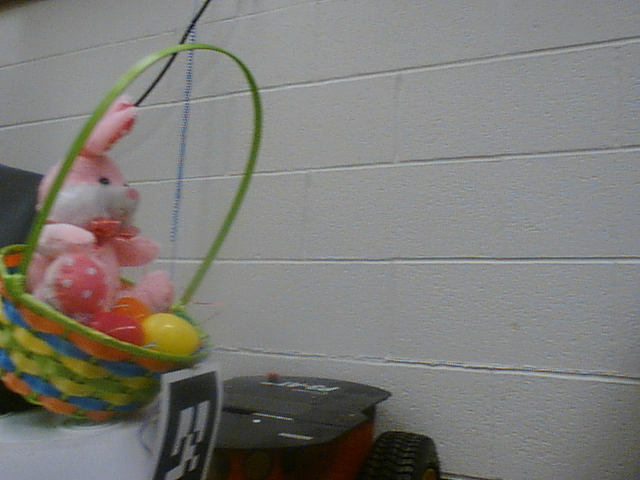bunny: (1, 42, 277, 426)
